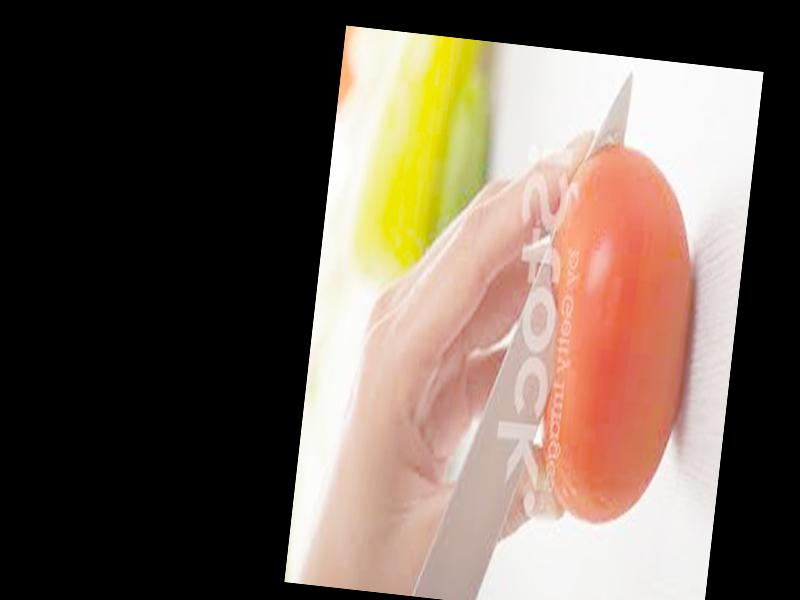Tomato: (523, 139, 711, 535)
